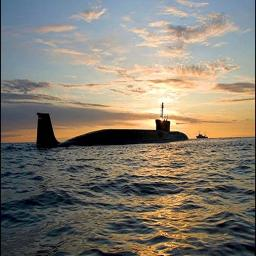submarine: (35, 81, 193, 153)
